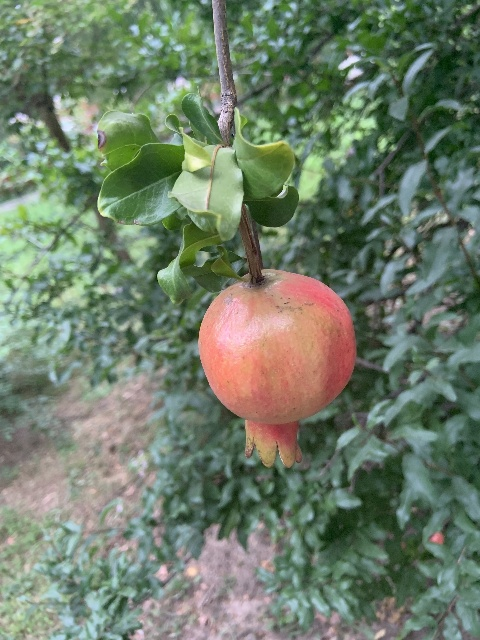ripe: (197, 271, 356, 469)
